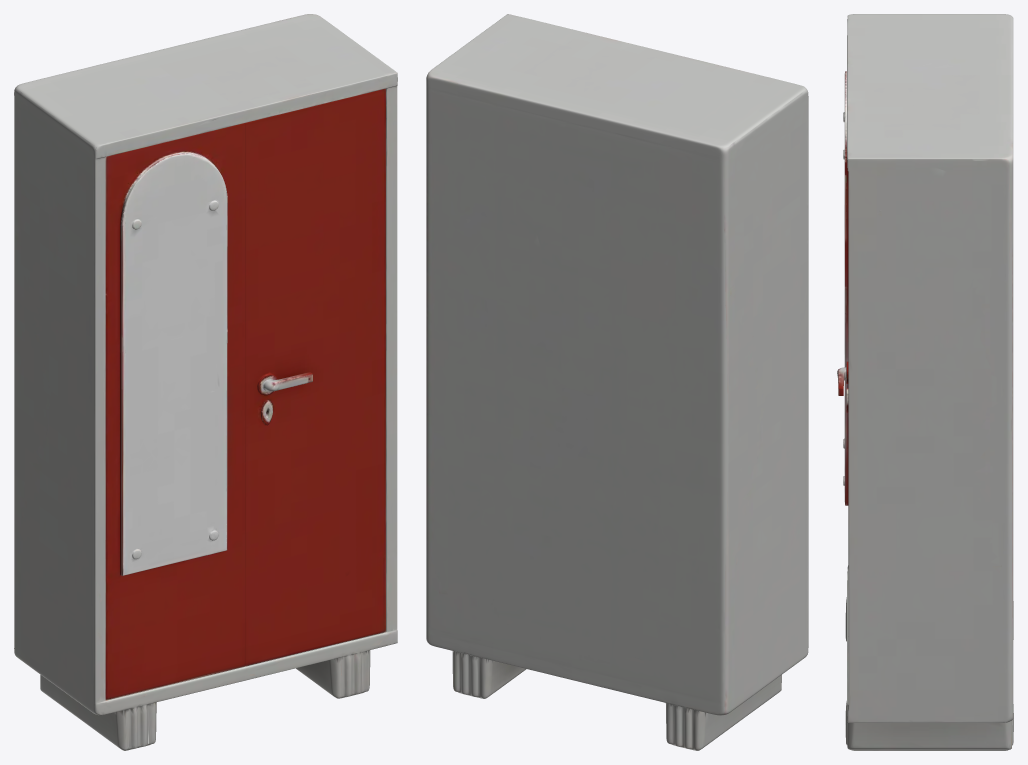
Rendered from almirah2.glb.
The picture shows the model from 3 angles, left to right: view 1: azimuth 30°, elevation 25°; view 2: azimuth 150°, elevation 25°; view 3: azimuth 270°, elevation 25°; orthographic projection.
Parts seen in each view (by area): view 1: node_0; view 2: node_0; view 3: node_0.
Part boxes in pixels (x1,y1,x2,y2): node_0: [14, 14, 397, 750]; node_0: [426, 14, 808, 750]; node_0: [837, 14, 1013, 750].
Bounding box in the file's own units: 0.5387 × 1.04 × 0.2754.
Materials: 1 (1 with a texture image).
